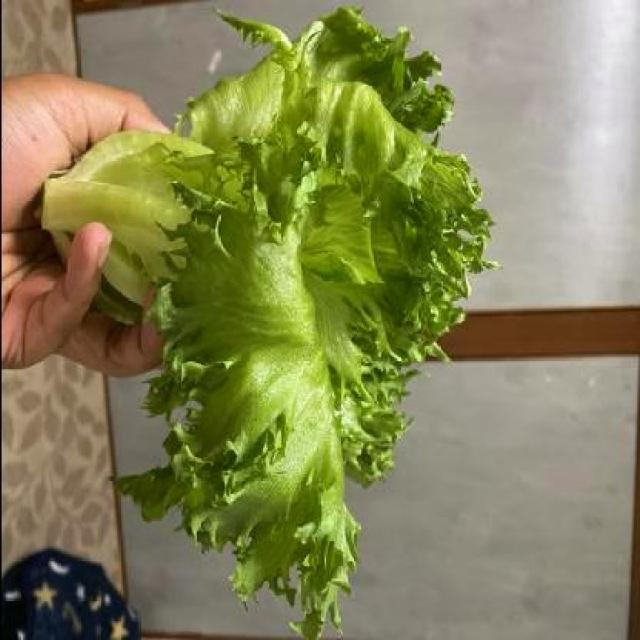Lettuce: (55, 2, 501, 636)
